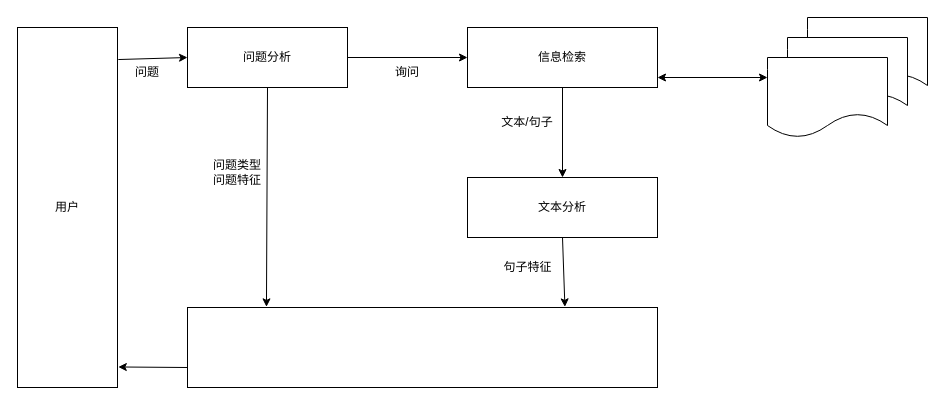
Image size: 945x405. Some labels were removed from this diagram. Here are the shapes that lost their labels. From the top down, the box of each, then its label:
(766, 56, 888, 138): 知识库
(186, 306, 658, 388): 答案抽取
